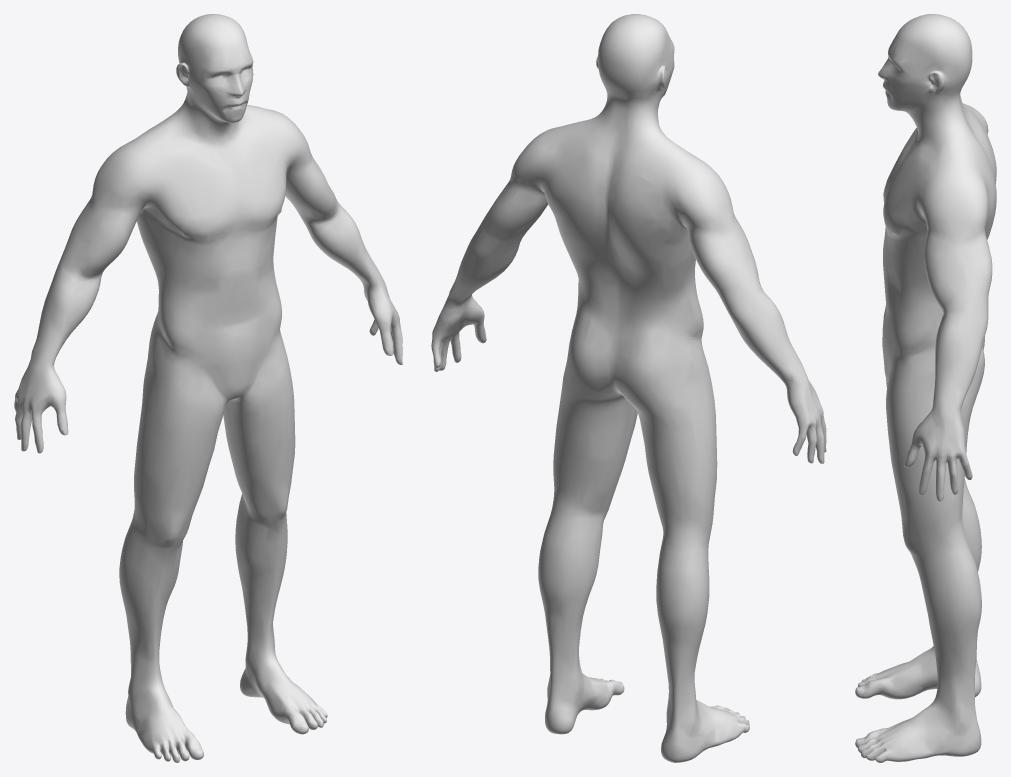
Rendered from Man.glb.
The picture shows the model from 3 angles, left to right: view 1: azimuth 30°, elevation 25°; view 2: azimuth 150°, elevation 25°; view 3: azimuth 270°, elevation 25°; orthographic projection.
Visible parts, largest first — view 1: FinalBaseMesh; view 2: FinalBaseMesh; view 3: FinalBaseMesh.
Part boxes in pixels (x1,y1,x2,y2): FinalBaseMesh: [14, 14, 402, 762]; FinalBaseMesh: [431, 14, 826, 762]; FinalBaseMesh: [855, 14, 996, 762].
Size of the model in its own units: 1.16 by 2.07 by 0.3755.
1 material, 1 textured.
